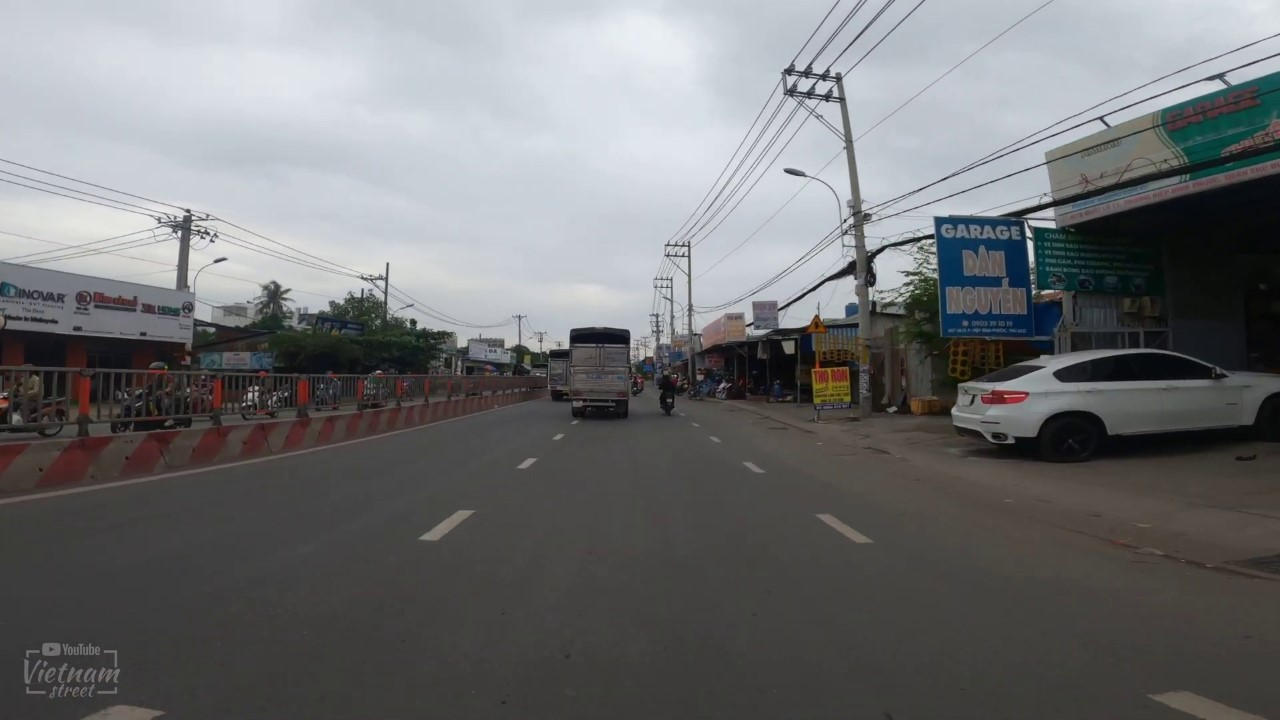giao_khong_uu_tien_phai: (804, 314, 829, 335)
